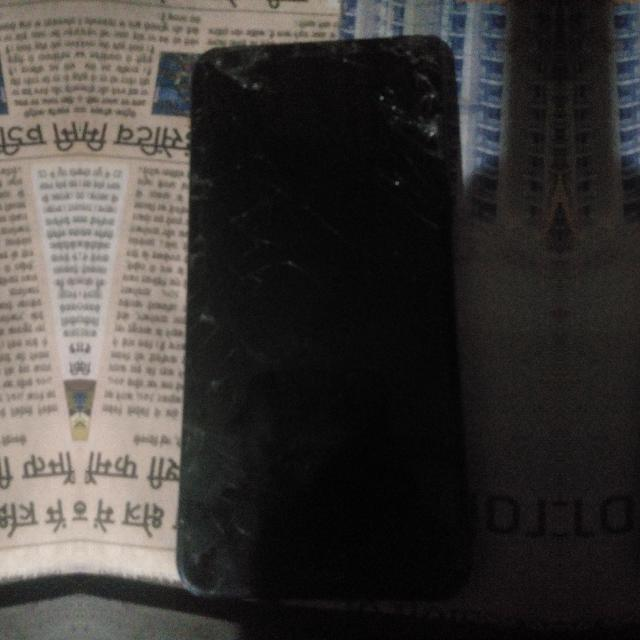phone_screen: (187, 36, 481, 598), (639, 36, 640, 597)
